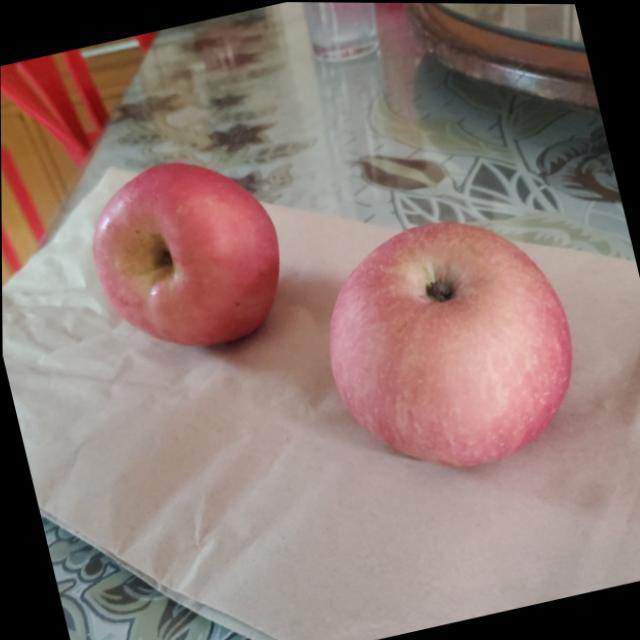apple: (300, 192, 593, 489), (76, 139, 298, 362)
